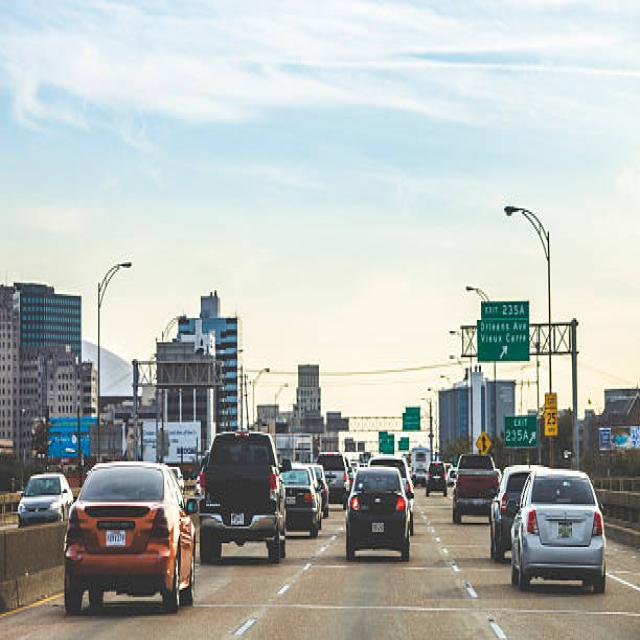Car: (62, 459, 196, 614), (510, 467, 606, 593), (345, 465, 411, 562), (17, 471, 73, 526)
Pickup: (196, 428, 286, 564)
Traffic-sign: (476, 298, 529, 361)
